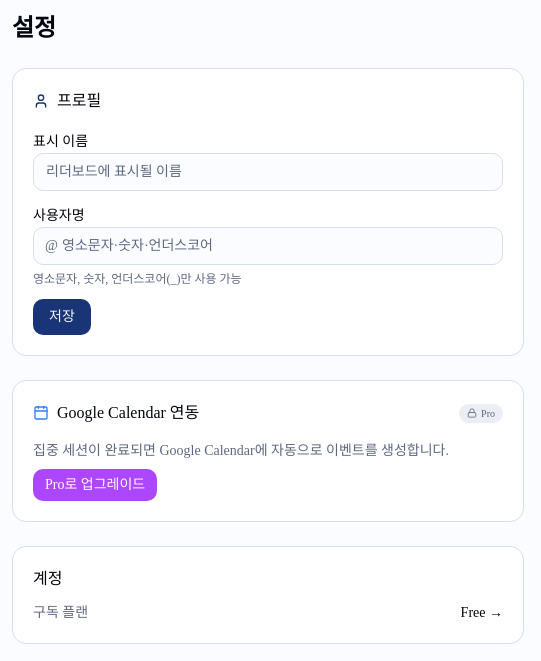
Test: SettingsClient — 프로필 섹션 › username 입력 시 영소문자·숫자·언더스코어만 허용한다
The image size is (541, 661).
Type "Hello World!@#" into the field labelled "사용자명" at (268,246), box top-left (33, 227), bottom-right (503, 265)
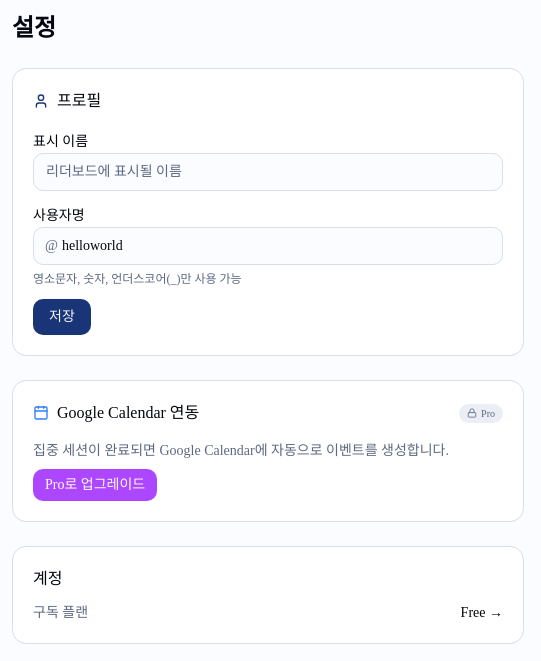
Expected: the field labelled "사용자명" holds "helloworld", top-left (33, 227), bottom-right (503, 265)
